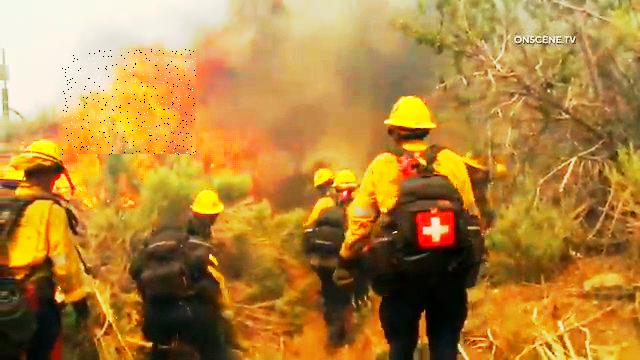fire: (62, 49, 196, 157)
